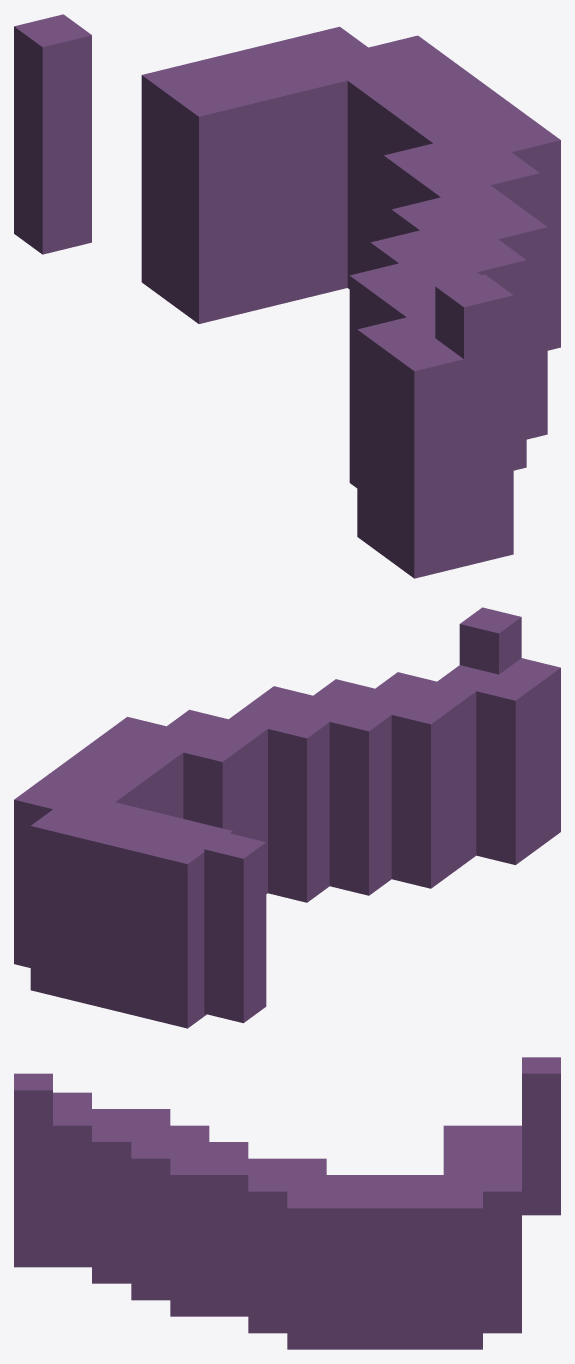
3 renders of one model, top to bottom at view 1: azimuth 30°, elevation 25°; view 2: azimuth 150°, elevation 25°; view 3: azimuth 270°, elevation 25°, orthographic. The views are drawn at different scales.
Bounding box in the file's own units: 0.35 × 0.25 × 0.7.
